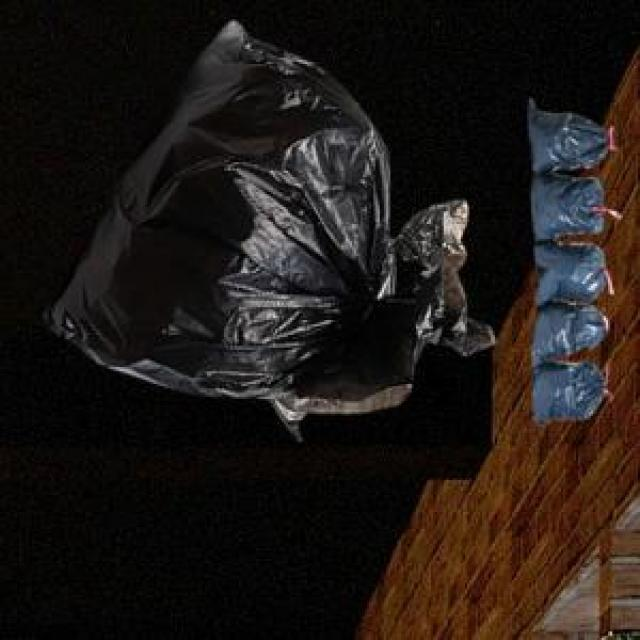miscellaneous trash: (41, 17, 490, 408), (265, 196, 463, 437), (525, 96, 608, 422)
